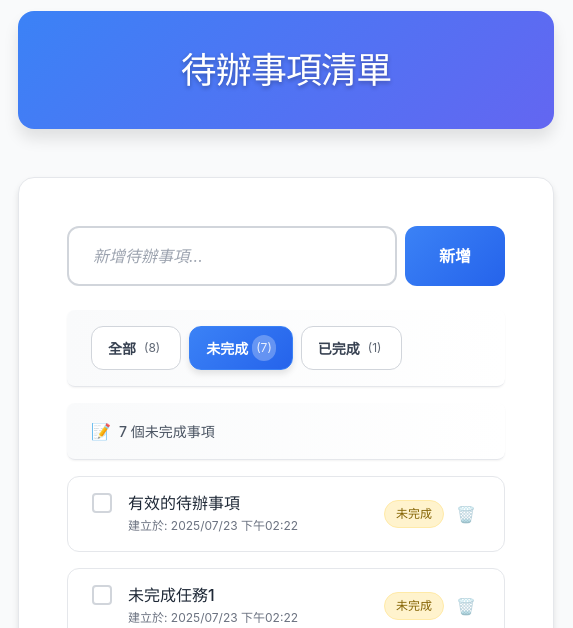
Scenario: TodoApp Integration Tests › Edit Functionality › should handle edit cancellation
Type "原始標題" into the field with placeholder "新增待辦事項..." at point(232, 256), box [67,226,397,286]
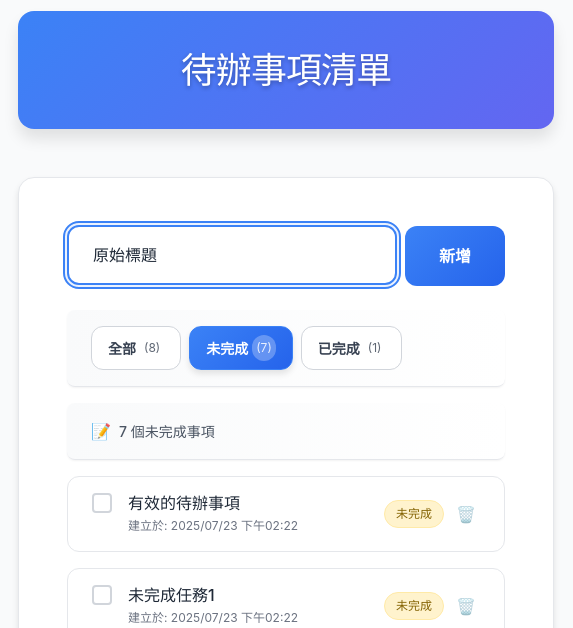
Click the button with aria-label "新增待辦事項" at point(455, 256), box [405,226,505,286]
(page scrolled)
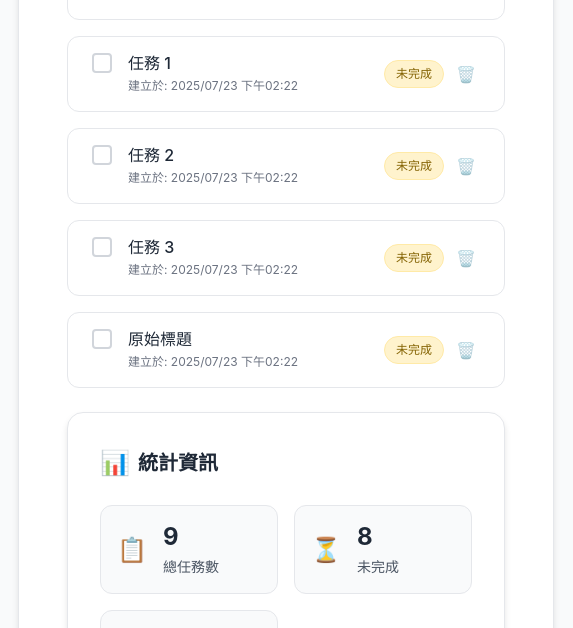
// Start editing
Double-click the text "原始標題" at point(160, 339), box [128,329,192,349]
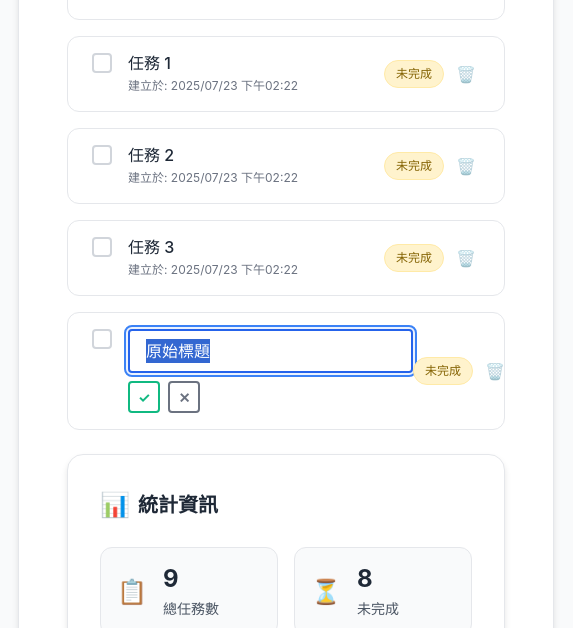
// Modify the input
Replace the text in the field showing "原始標題" with "修改後的標題" at point(270, 351), box [128,329,413,373]
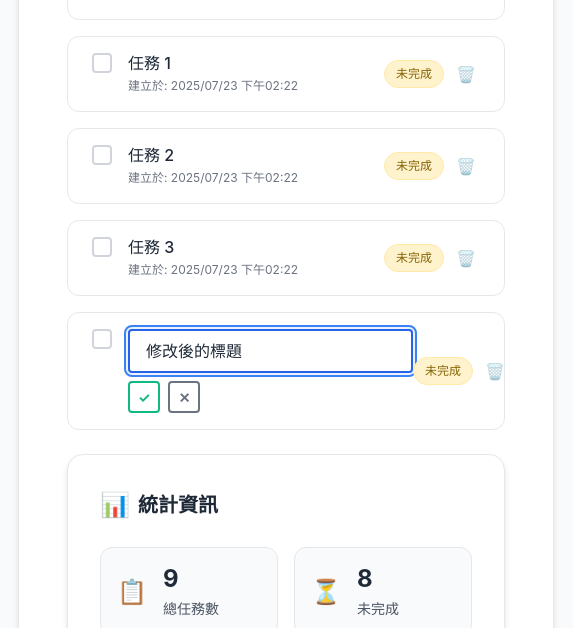
// Cancel the edit
Click the button "✕" at point(184, 397), box [168,381,200,413]
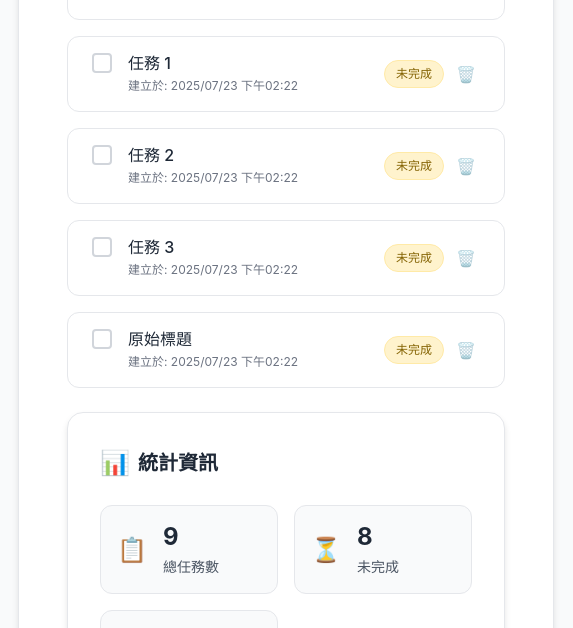
expect the text "修改後的標題" is not shown: met
expect the text "原始標題" is shown: met, box [128,329,192,349]
